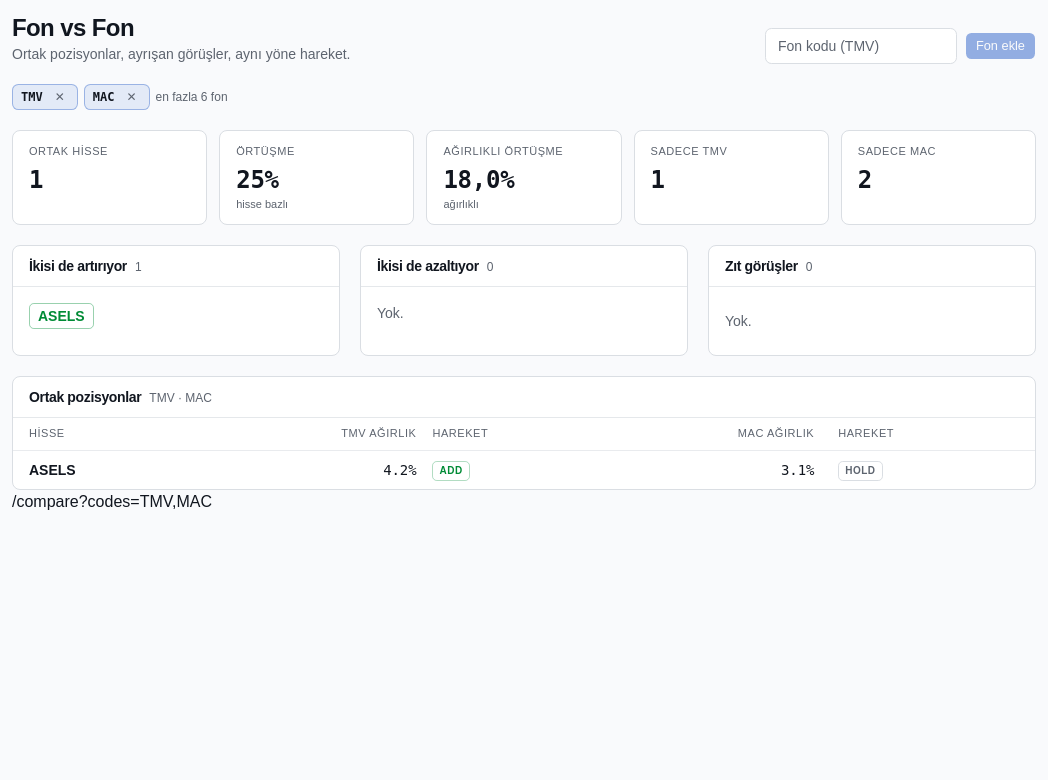
it: ComparePage › offers fund hits from /search, never stocks or funds already in the set, and picks one on click
Expected: the heading "Ortak pozisyonlar" is shown, [29,387,141,407]
In the dropdown named "Fon ekle": point(861, 46) [765,28,957,64], type "ab"
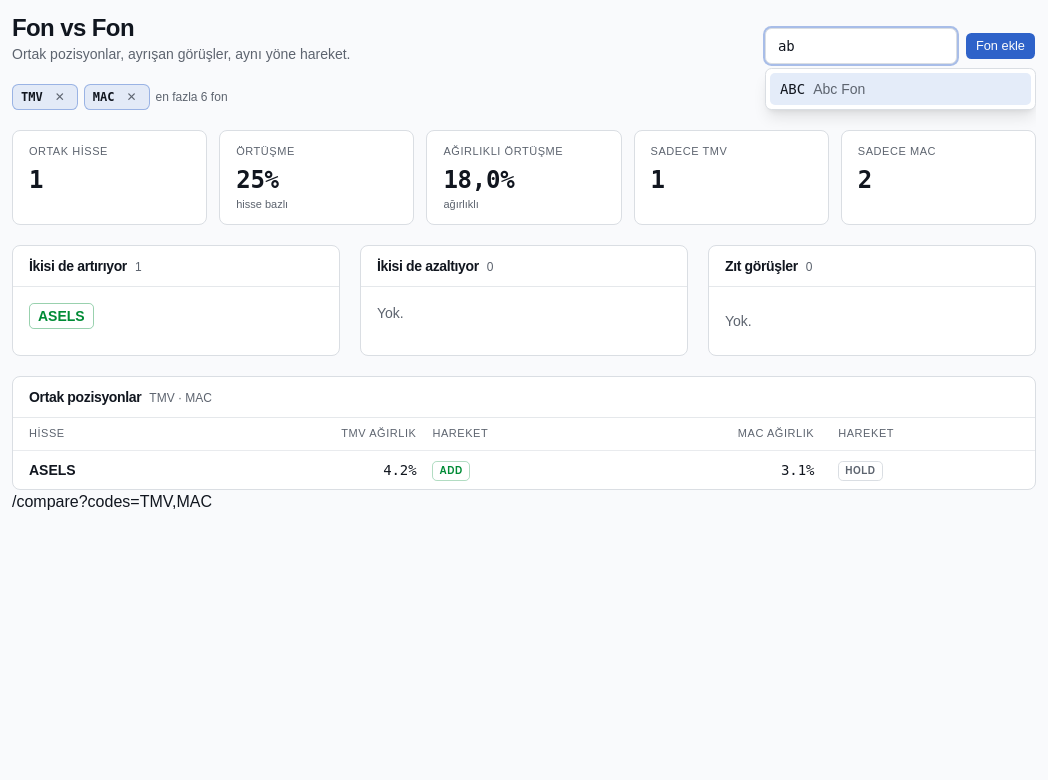
Result: the options read "ABCAbc Fon", in this order
Click the option "ABC Abc Fon": point(839, 89) [770,73,1031,105]
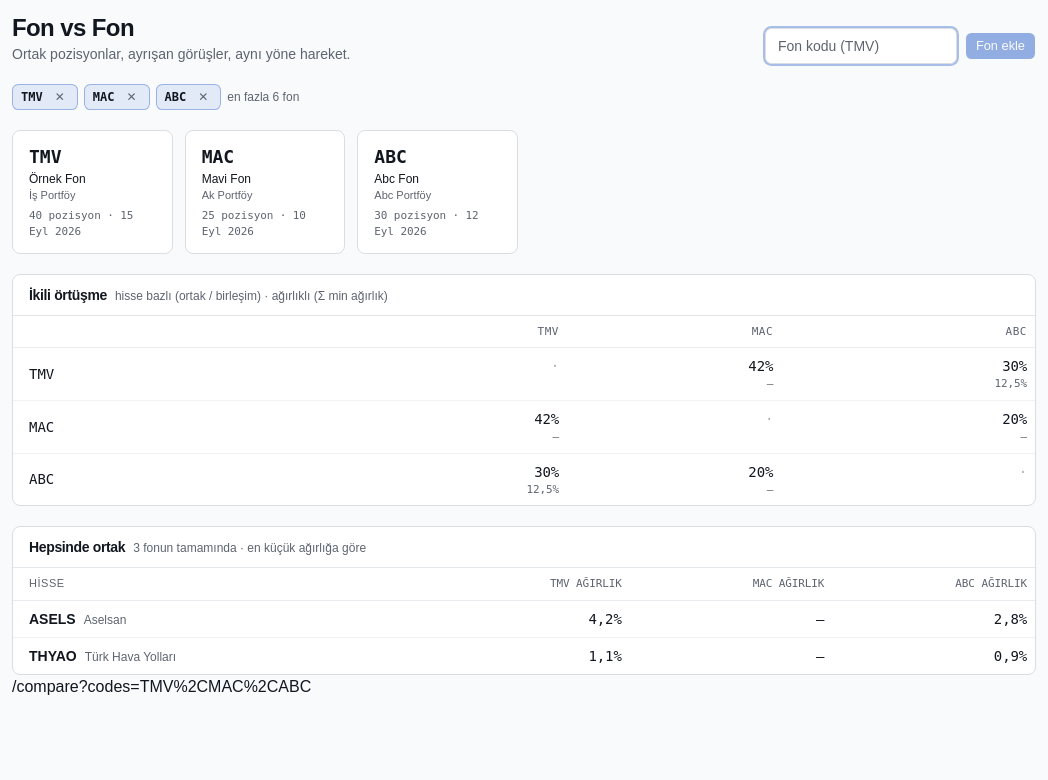
Result: the text with test id "where" reads "/compare?codes=TMV%2CMAC%2CABC" at [12,678,311,695]
